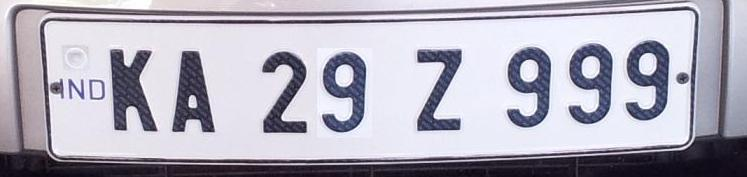2: (258, 49, 310, 133)
9: (565, 39, 613, 127), (503, 44, 553, 127), (622, 38, 670, 124), (318, 50, 368, 132)
A: (169, 48, 219, 134)
K: (103, 46, 160, 132)
Z: (414, 45, 466, 131)
